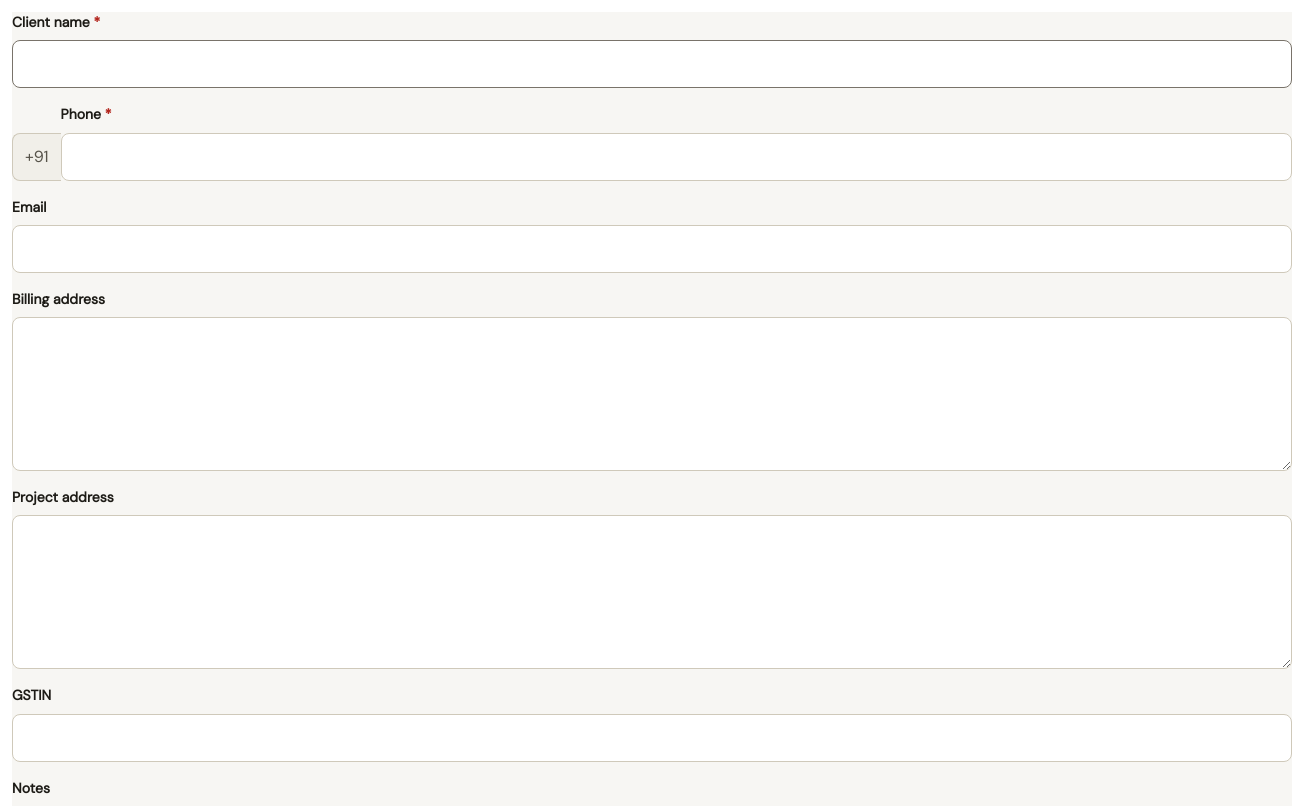
Test: Client form — phone validation › rejects an incomplete number once the field is left
Type "9000" into the field labelled "Phone *" at (676, 157), box [61,133,1292,181]
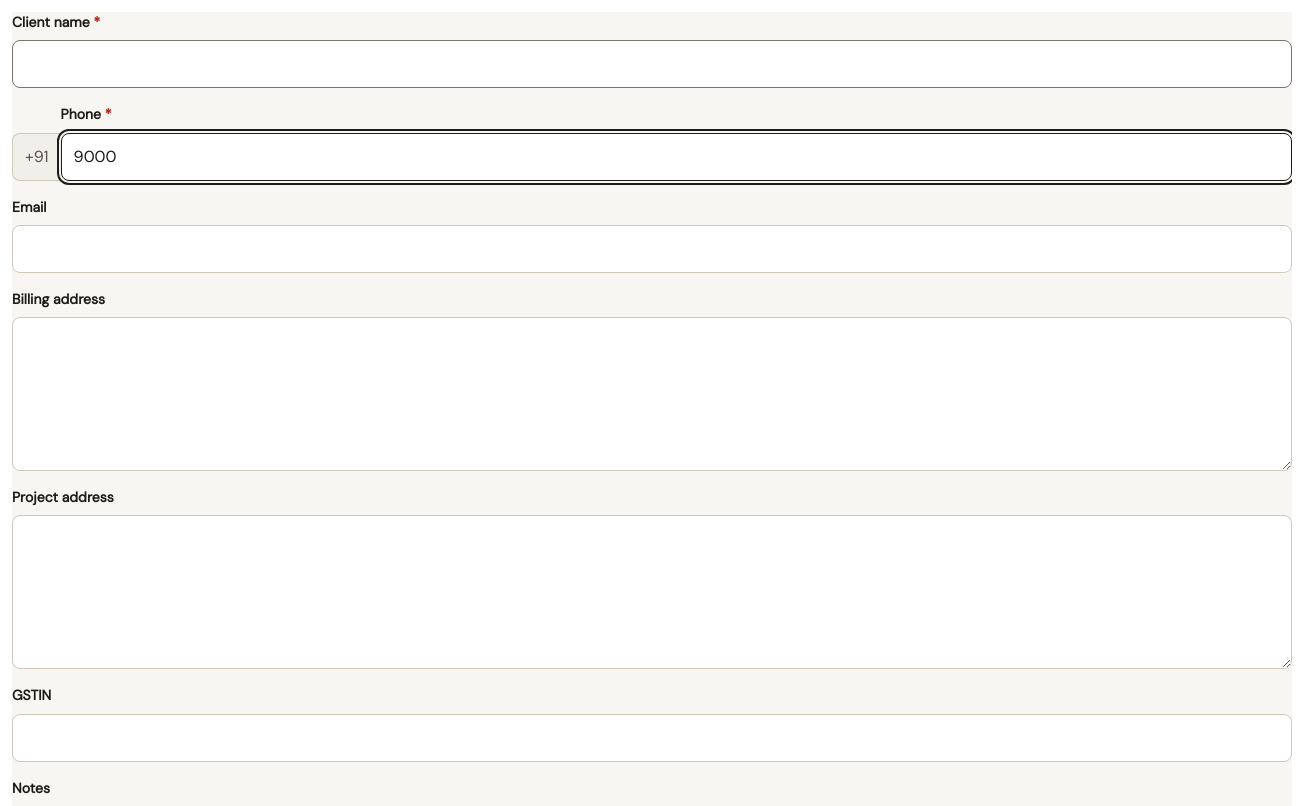
Press Tab
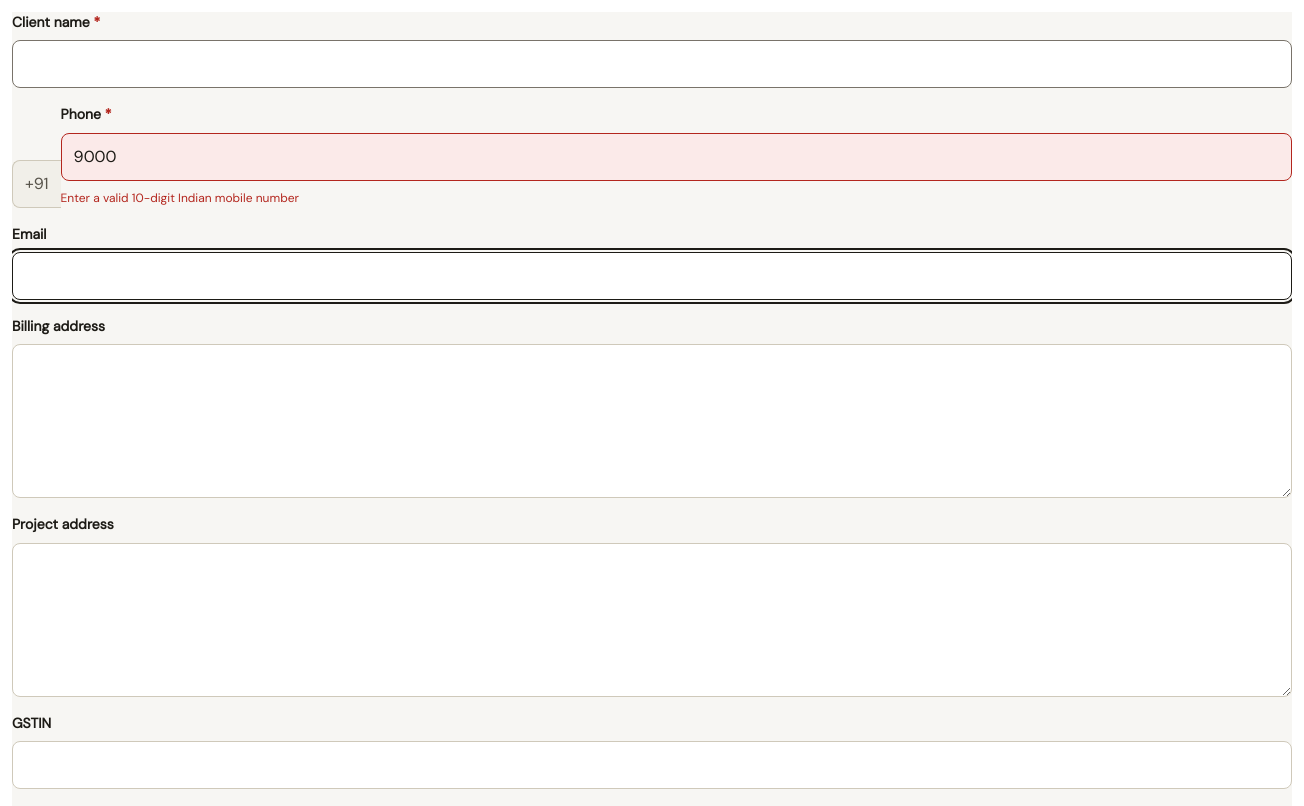
expect the text "Enter a valid 10-digit Indian mobile number" is shown: met, box [61,190,299,206]
